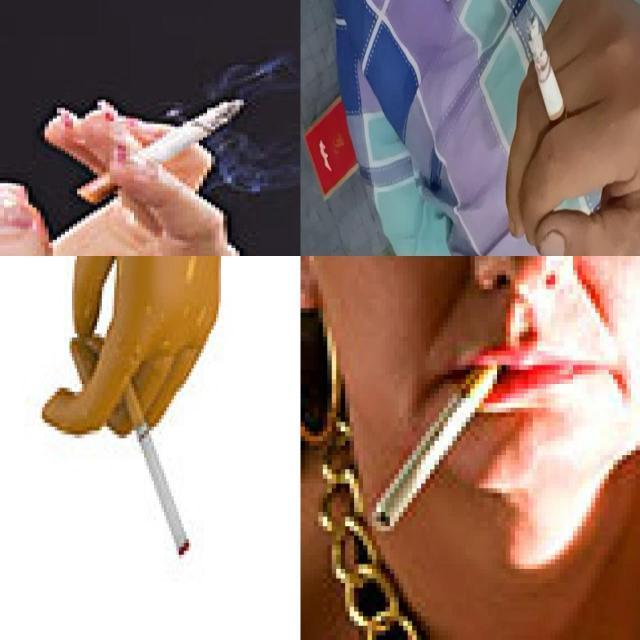smoking: (374, 359, 498, 533), (75, 98, 248, 204), (119, 374, 191, 558), (529, 15, 571, 144)
